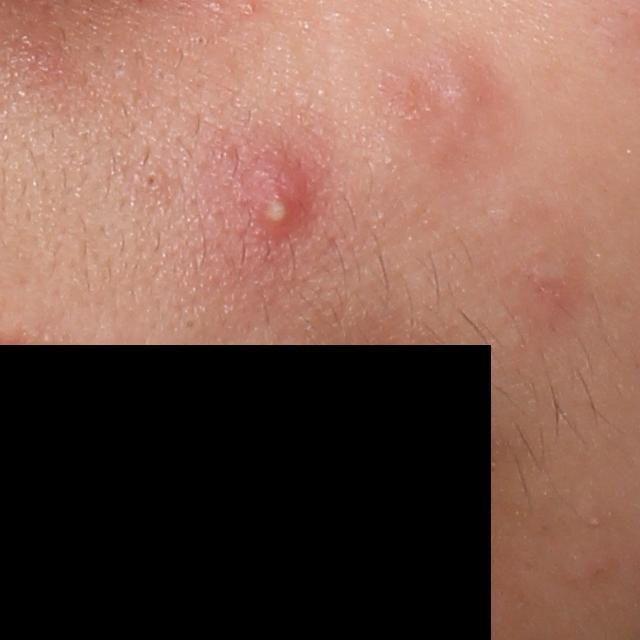comedo: (141, 171, 163, 190), (195, 33, 209, 47)
pustule: (243, 156, 316, 242)
